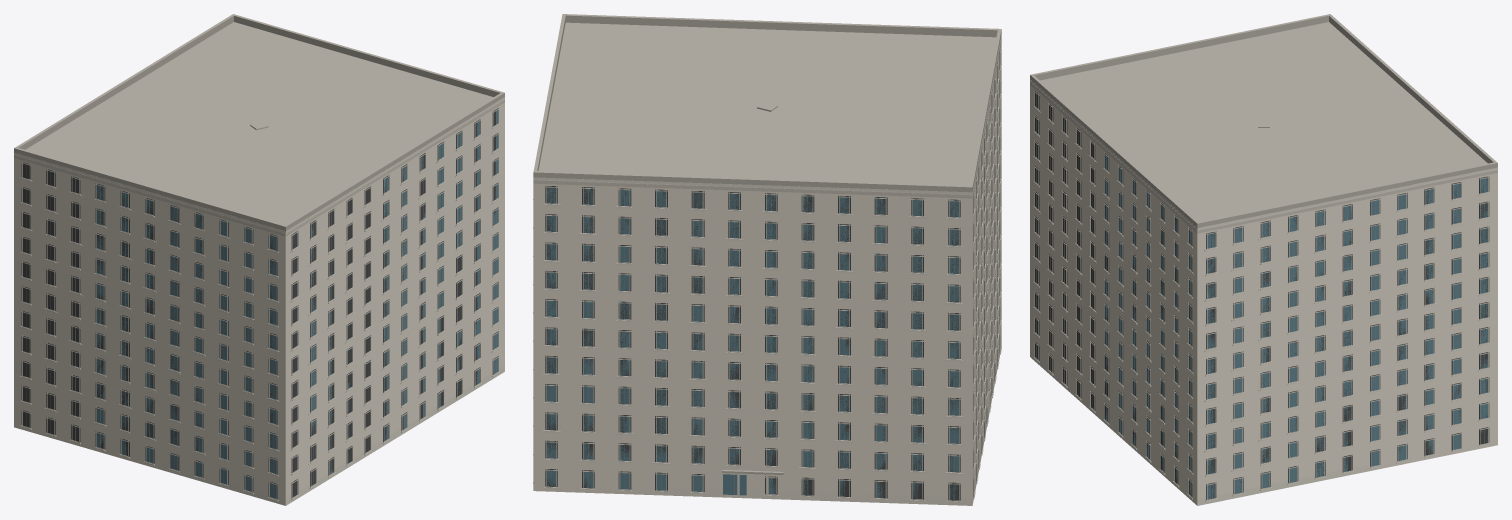
File: cop_residencial_orla_01__way_586975771.fbx
The picture shows the model from 3 angles, left to right: view 1: azimuth 30°, elevation 25°; view 2: azimuth 150°, elevation 25°; view 3: azimuth 270°, elevation 25°; orthographic projection. The views are drawn at different scales.
Parts seen in each view (by area): view 1: cop_residencial_orla_01__way_586975771_wall, cop_residencial_orla_01__way_586975771_roof, cop_residencial_orla_01__way_586975771_shadow, cop_residencial_orla_01__way_586975771_trim, cop_residencial_orla_01__way_586975771_glass, cop_residencial_orla_01__way_586975771_stone, cop_residencial_orla_01__way_586975771_metal; view 2: cop_residencial_orla_01__way_586975771_wall, cop_residencial_orla_01__way_586975771_roof, cop_residencial_orla_01__way_586975771_shadow, cop_residencial_orla_01__way_586975771_glass, cop_residencial_orla_01__way_586975771_trim, cop_residencial_orla_01__way_586975771_stone, cop_residencial_orla_01__way_586975771_metal; view 3: cop_residencial_orla_01__way_586975771_wall, cop_residencial_orla_01__way_586975771_roof, cop_residencial_orla_01__way_586975771_shadow, cop_residencial_orla_01__way_586975771_glass, cop_residencial_orla_01__way_586975771_trim, cop_residencial_orla_01__way_586975771_stone, cop_residencial_orla_01__way_586975771_metal.
Boxes of the visible parts, x1,y1,x2,y2 form: cop_residencial_orla_01__way_586975771_wall: (14, 99, 504, 505); cop_residencial_orla_01__way_586975771_roof: (14, 14, 504, 231); cop_residencial_orla_01__way_586975771_shadow: (21, 108, 498, 499); cop_residencial_orla_01__way_586975771_trim: (14, 99, 504, 499); cop_residencial_orla_01__way_586975771_glass: (48, 110, 498, 498); cop_residencial_orla_01__way_586975771_stone: (14, 97, 504, 505); cop_residencial_orla_01__way_586975771_metal: (26, 111, 496, 497); cop_residencial_orla_01__way_586975771_wall: (533, 41, 1001, 505); cop_residencial_orla_01__way_586975771_roof: (533, 14, 1001, 474); cop_residencial_orla_01__way_586975771_shadow: (545, 48, 1000, 500); cop_residencial_orla_01__way_586975771_glass: (547, 80, 995, 500); cop_residencial_orla_01__way_586975771_trim: (533, 37, 1001, 501); cop_residencial_orla_01__way_586975771_stone: (533, 34, 1001, 505); cop_residencial_orla_01__way_586975771_metal: (551, 95, 992, 500); cop_residencial_orla_01__way_586975771_wall: (1030, 81, 1497, 505); cop_residencial_orla_01__way_586975771_roof: (1030, 14, 1497, 227); cop_residencial_orla_01__way_586975771_shadow: (1034, 90, 1489, 499); cop_residencial_orla_01__way_586975771_glass: (1035, 155, 1487, 499); cop_residencial_orla_01__way_586975771_trim: (1030, 82, 1497, 500); cop_residencial_orla_01__way_586975771_stone: (1030, 79, 1497, 505); cop_residencial_orla_01__way_586975771_metal: (1036, 94, 1484, 498).
Size of the model in its own units: 4891 by 3069 by 4610.
